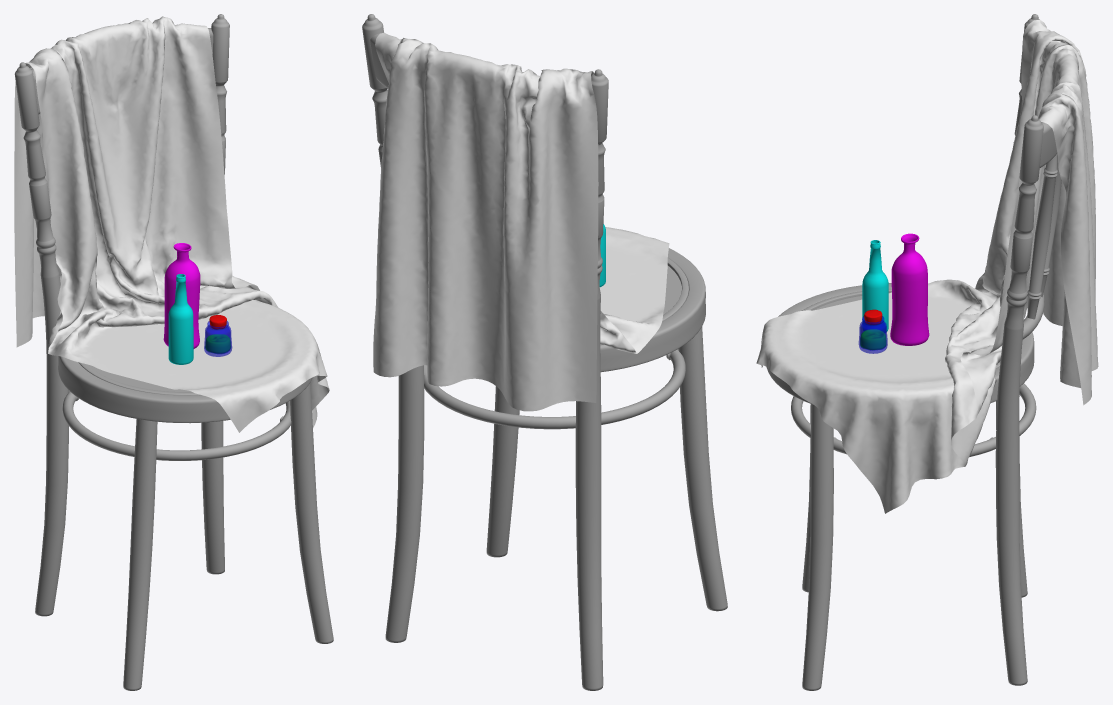
3 views of the same model, side by side, from view 1: azimuth 30°, elevation 25°; view 2: azimuth 150°, elevation 25°; view 3: azimuth 270°, elevation 25° (orthographic). The views are drawn at different scales.
Visible parts, largest first — view 1: cloth, rack, vase, bottle, potion_bottle, surface; view 2: cloth, rack, surface; view 3: cloth, rack, vase, bottle, potion_bottle.
Part boxes in pixels (bbox=[...]): cloth: bbox=[14, 16, 329, 432]; rack: bbox=[14, 14, 333, 690]; vase: bbox=[163, 243, 200, 348]; bottle: bbox=[168, 274, 193, 364]; potion_bottle: bbox=[204, 321, 232, 356]; surface: bbox=[87, 364, 191, 391]; cloth: bbox=[373, 32, 669, 411]; rack: bbox=[362, 14, 727, 690]; surface: bbox=[663, 265, 681, 314]; cloth: bbox=[756, 20, 1098, 513]; rack: bbox=[766, 14, 1061, 690]; vase: bbox=[890, 233, 929, 345]; bottle: bbox=[862, 240, 888, 332]; potion_bottle: bbox=[858, 316, 887, 353].
Bounding box in the file's own units: 45.92 × 99.6 × 53.88.
